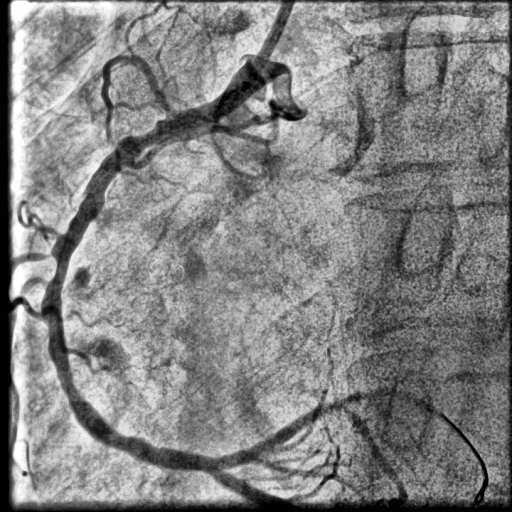pborca: (219, 388, 489, 485)
pda: (215, 472, 305, 511)
rca: (44, 61, 266, 480)
